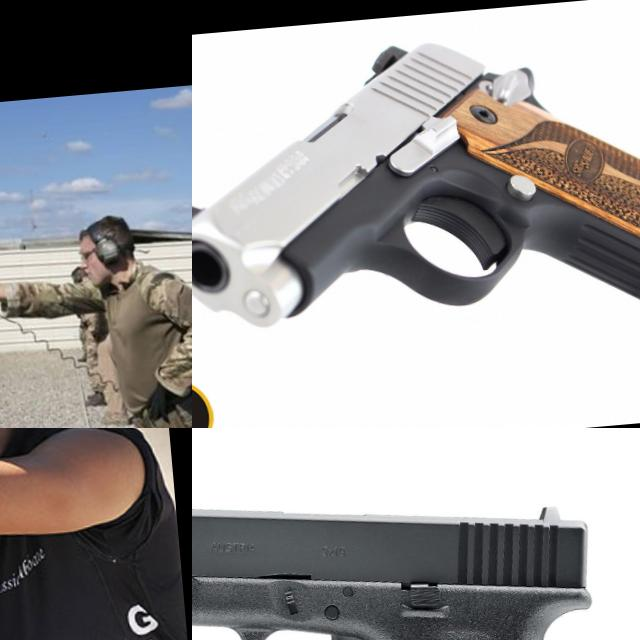handgun: (192, 15, 640, 354), (192, 452, 619, 640), (0, 428, 84, 481), (0, 261, 31, 291)
